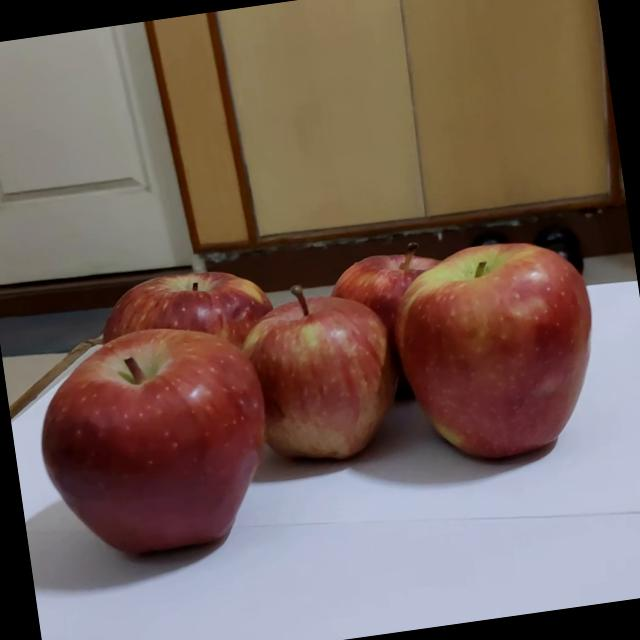apple: (91, 340, 356, 617), (61, 255, 280, 468), (407, 246, 618, 464), (251, 291, 439, 479), (288, 228, 448, 384)
